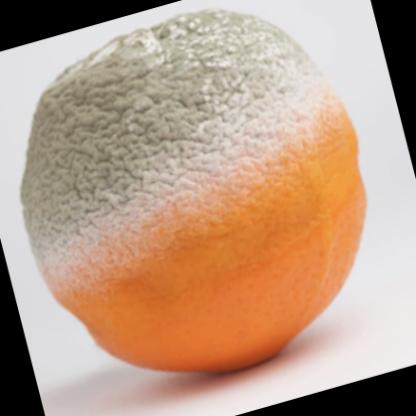rotten: (26, 12, 367, 373)
